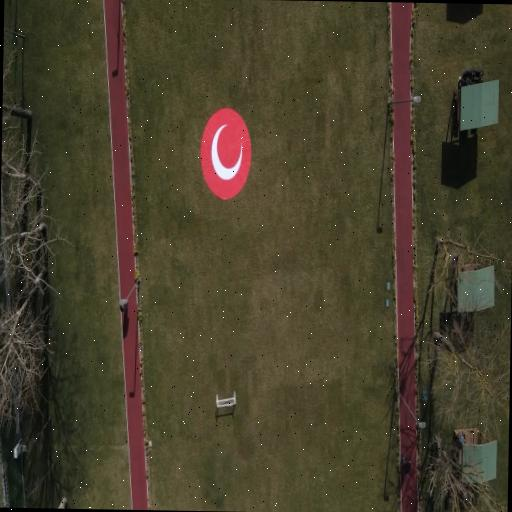UAI: (200, 108, 251, 199)
person: (401, 456, 411, 474)
